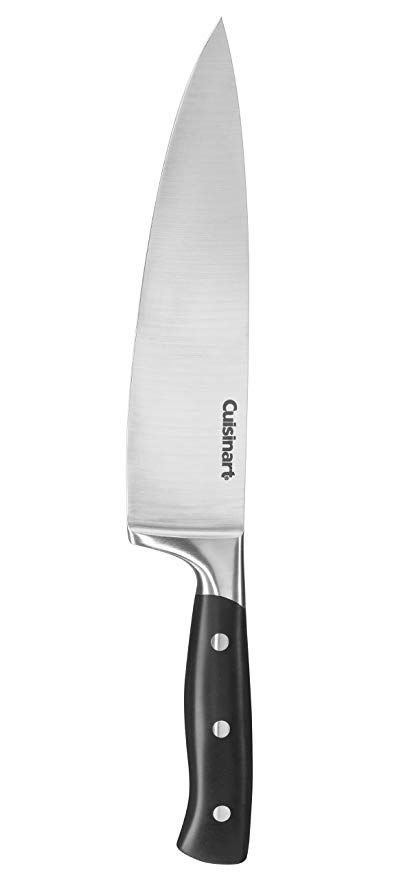knife: (126, 15, 252, 869)
